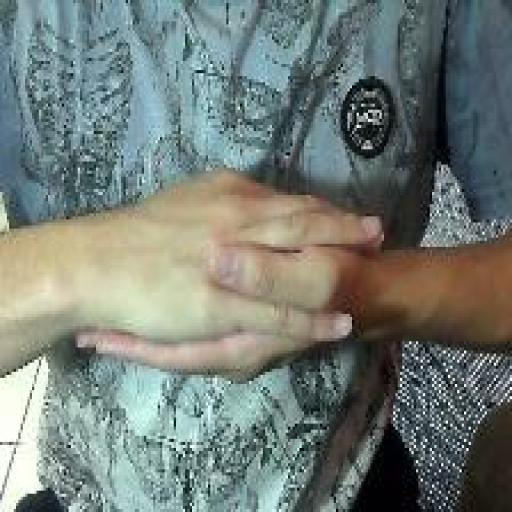Saru -monkey-: (72, 162, 392, 393)
